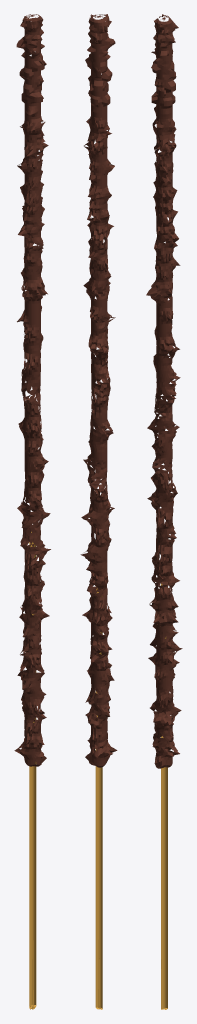
File: almond.gltf
3 renders of one model, left to right at view 1: azimuth 30°, elevation 25°; view 2: azimuth 210°, elevation 25°; view 3: azimuth 270°, elevation 25°, orthographic.
Parts seen in each view (by area): view 1: Cylinder.003_Cylinder.004, core.001_Cylinder.003; view 2: Cylinder.003_Cylinder.004, core.001_Cylinder.003; view 3: Cylinder.003_Cylinder.004, core.001_Cylinder.003.
Part boxes in pixels (x1=…): Cylinder.003_Cylinder.004: x1=14, y1=14, x2=50, y2=766; core.001_Cylinder.003: x1=29, y1=531, x2=36, y2=1009; Cylinder.003_Cylinder.004: x1=80, y1=14, x2=117, y2=767; core.001_Cylinder.003: x1=95, y1=586, x2=102, y2=1009; Cylinder.003_Cylinder.004: x1=146, y1=14, x2=182, y2=768; core.001_Cylinder.003: x1=161, y1=583, x2=167, y2=1009.
Bounding box in the file's own units: 1.48 × 42.84 × 1.44.
